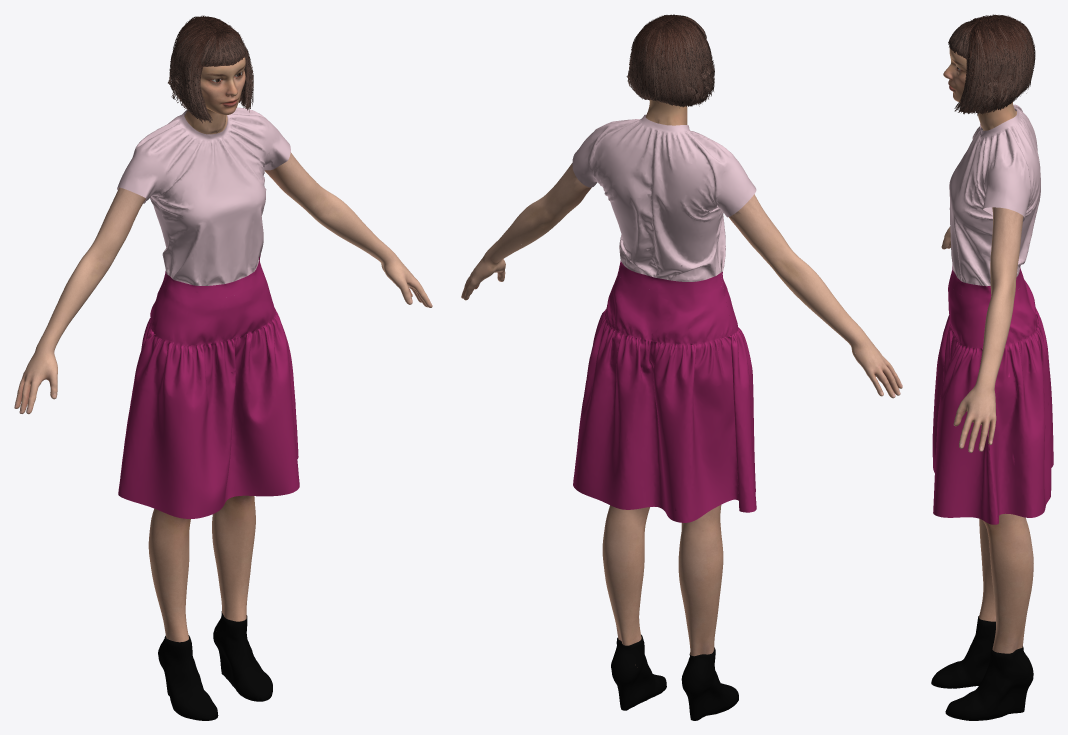
3 renders of one model, left to right at view 1: azimuth 30°, elevation 25°; view 2: azimuth 150°, elevation 25°; view 3: azimuth 270°, elevation 25°, orthographic. The views are drawn at different scales.
Visible parts, largest first — view 1: Cloth, Avatar; view 2: Cloth, Avatar; view 3: Cloth, Avatar.
Part boxes in pixels (x1,y1,x2,y2): Cloth: [117, 107, 299, 518]; Avatar: [14, 15, 432, 720]; Cloth: [572, 114, 756, 522]; Avatar: [461, 14, 902, 720]; Cloth: [932, 104, 1053, 524]; Avatar: [931, 14, 1035, 720].
Size of the model in its own units: 1.08 by 1.67 by 0.2724.
Materials: 14 (11 with a texture image).
